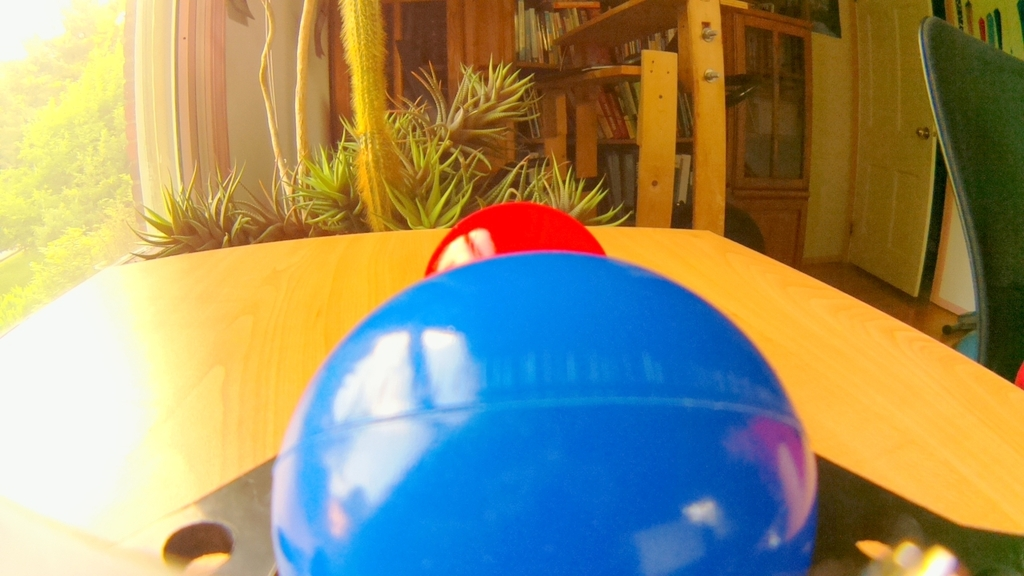ball: (266, 247, 812, 576)
